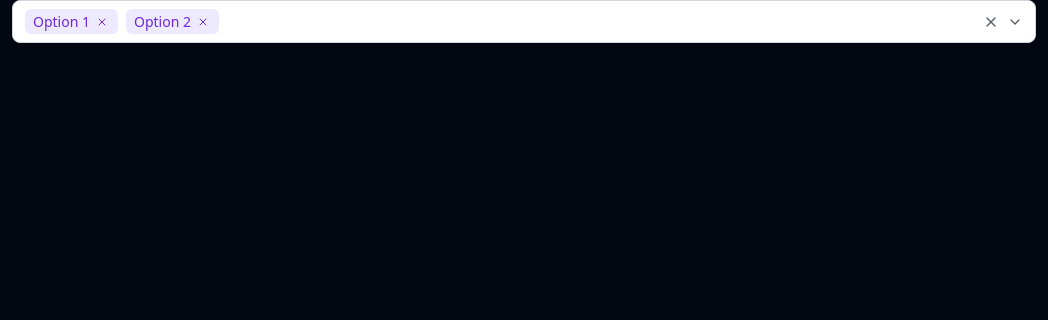
Test: MultiSelect › Select All › should display selection count in dropdown
Step 1. Click the dropdown with test id "multiselect-trigger" → x=524, y=22, box [12,0,1036,43]
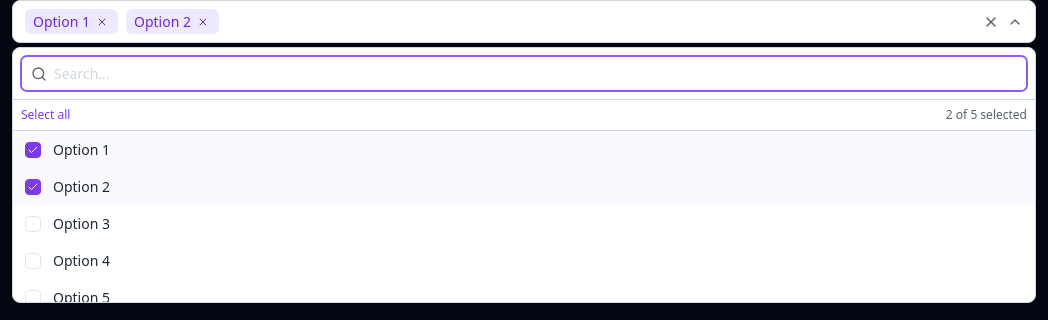
Now the text with test id "selection-count" reads "2 of 5 selected", box [946,106,1027,124]
